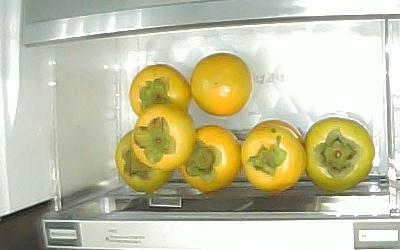persimmon: (305, 117, 374, 192), (130, 102, 195, 170), (241, 125, 306, 191), (190, 52, 252, 116), (181, 124, 240, 191), (114, 130, 173, 192), (128, 63, 191, 118)
